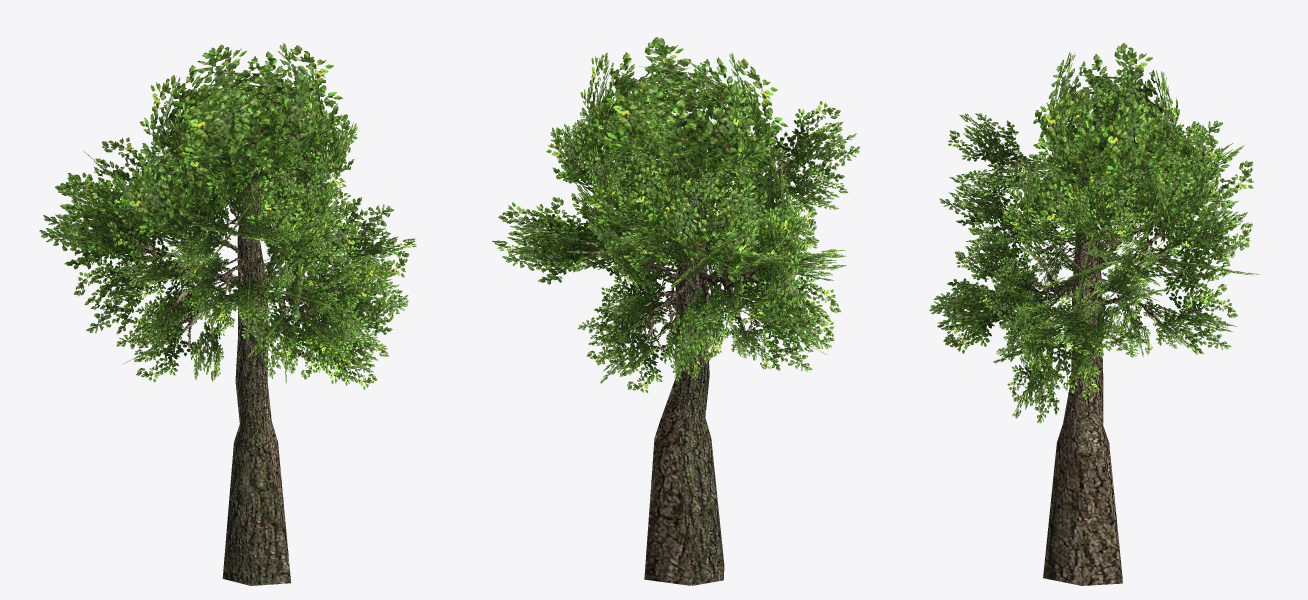
Rendered from roble_a.glb.
3 views of the same model, side by side, from view 1: azimuth 30°, elevation 25°; view 2: azimuth 150°, elevation 25°; view 3: azimuth 270°, elevation 25° (orthographic). The views are drawn at different scales.
Visible parts, largest first — view 1: Copa, Tronco; view 2: Copa, Tronco; view 3: Copa, Tronco.
Part boxes in pixels (left/top/right/bottom): Copa: left=39, top=43, right=416, bottom=389; Tronco: left=116, top=146, right=360, bottom=585; Copa: left=492, top=37, right=860, bottom=392; Tronco: left=564, top=130, right=804, bottom=585; Copa: left=929, top=43, right=1259, bottom=423; Tronco: left=980, top=154, right=1207, bottom=585.
Bounding box in the file's own units: 9.06 × 11.87 × 8.07.
Materials: 2 (2 with a texture image).
